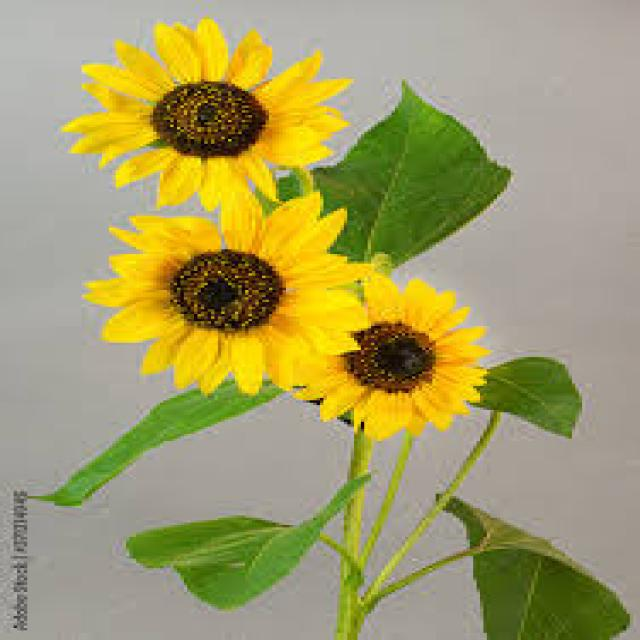sunflower: (75, 188, 386, 402), (59, 16, 354, 214), (290, 267, 500, 439)
